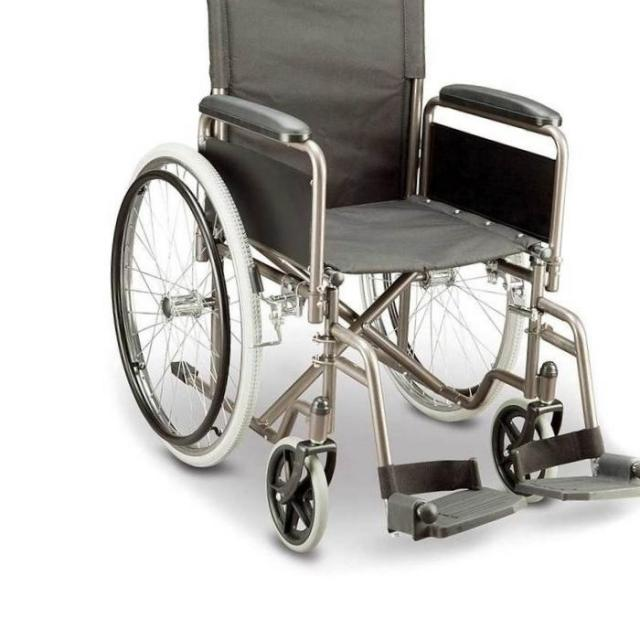wheelchair: (86, 0, 640, 563)
